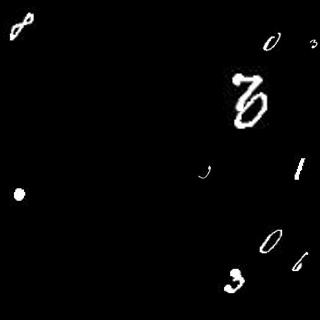dot: (11, 183, 29, 201)
eight: (9, 10, 37, 44)
nine: (197, 161, 215, 181)
one: (293, 155, 307, 182)
seven: (229, 73, 266, 113)
six: (290, 246, 309, 272)
three: (222, 265, 246, 292), (308, 37, 317, 51)
zero: (233, 90, 273, 128), (257, 227, 284, 255), (261, 30, 284, 52)
